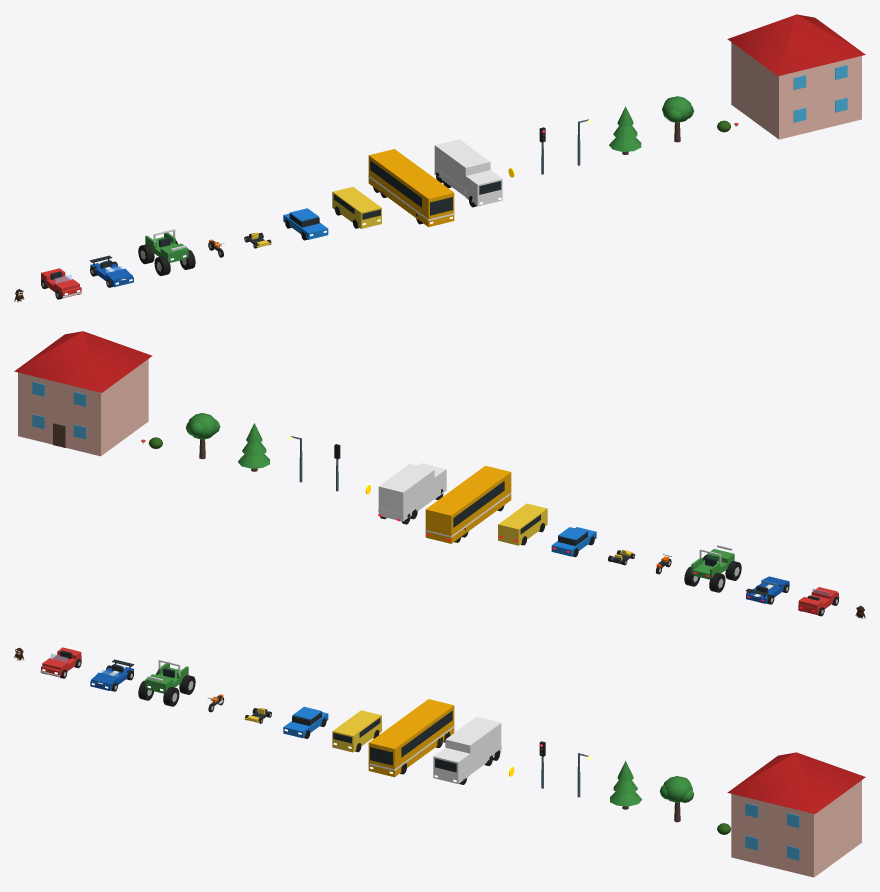
The model's file is spiel-objekte.glb.
3 renders of one model, top to bottom at view 1: azimuth 30°, elevation 25°; view 2: azimuth 150°, elevation 25°; view 3: azimuth 330°, elevation 25°, orthographic.
Visible parts, largest first — view 1: Waende, Dach, Bus, Laster, Kleinbus, Auto, Monstertruck, Sportwagen, Cabrio; view 2: Waende, Dach, Bus, Laster, Kleinbus, Monstertruck, Auto, Cabrio, Sportwagen; view 3: Waende, Dach, Bus, Laster, Kleinbus, Auto, Monstertruck, Cabrio, Sportwagen, Krone.
Part boxes in pixels (x1,y1,x2,y2): Waende: [731, 42, 861, 139]; Dach: [727, 14, 865, 76]; Bus: [368, 149, 454, 227]; Laster: [434, 139, 502, 207]; Kleinbus: [332, 187, 381, 228]; Auto: [283, 208, 328, 240]; Monstertruck: [145, 229, 188, 262]; Sportwagen: [89, 255, 133, 287]; Cabrio: [41, 268, 82, 298]; Waende: [18, 359, 148, 456]; Dach: [14, 331, 152, 392]; Bus: [425, 465, 511, 543]; Laster: [378, 463, 446, 524]; Kleinbus: [498, 503, 547, 545]; Monstertruck: [691, 545, 734, 579]; Auto: [551, 527, 596, 557]; Cabrio: [798, 587, 839, 614]; Sportwagen: [745, 576, 789, 603]; Waende: [731, 780, 861, 877]; Dach: [727, 752, 865, 813]; Bus: [368, 699, 454, 777]; Laster: [433, 716, 501, 784]; Kleinbus: [332, 710, 381, 752]; Auto: [283, 706, 328, 738]; Monstertruck: [145, 660, 188, 693]; Cabrio: [40, 647, 81, 677]; Sportwagen: [90, 659, 134, 690]; Krone: [663, 776, 692, 802].
Size of the model in its own units: 79.74 by 9.18 by 10.08.
